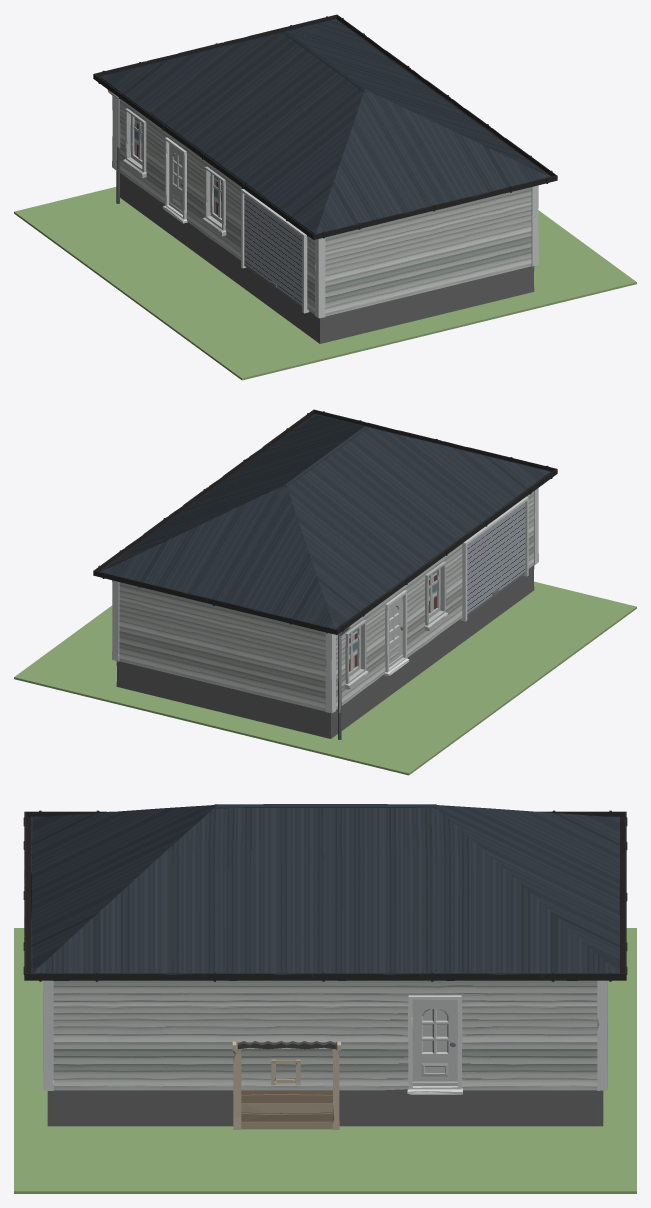
File: mansion.glb
The picture shows the model from 3 angles, top to bottom: view 1: azimuth 30°, elevation 25°; view 2: azimuth 150°, elevation 25°; view 3: azimuth 270°, elevation 25°; orthographic projection. The views are drawn at different scales.
Parts seen in each view (by area): view 1: Mansion, Ground; view 2: Mansion, Ground; view 3: Mansion, Ground, Mansion_Shed.
Part boxes in pixels (x1,y1,x2,y2): Mansion: (93, 14, 557, 343); Ground: (14, 187, 636, 380); Mansion: (93, 409, 557, 739); Ground: (14, 581, 636, 775); Mansion: (23, 804, 627, 1126); Ground: (14, 928, 636, 1193); Mansion_Shed: (232, 1041, 340, 1129).
Size of the model in its own units: 32 by 14.63 by 32.
2 materials, 1 textured.
